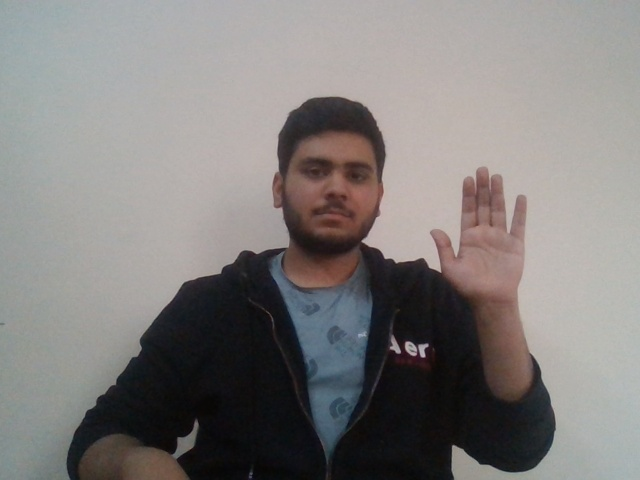Hello: (412, 165, 547, 301)
